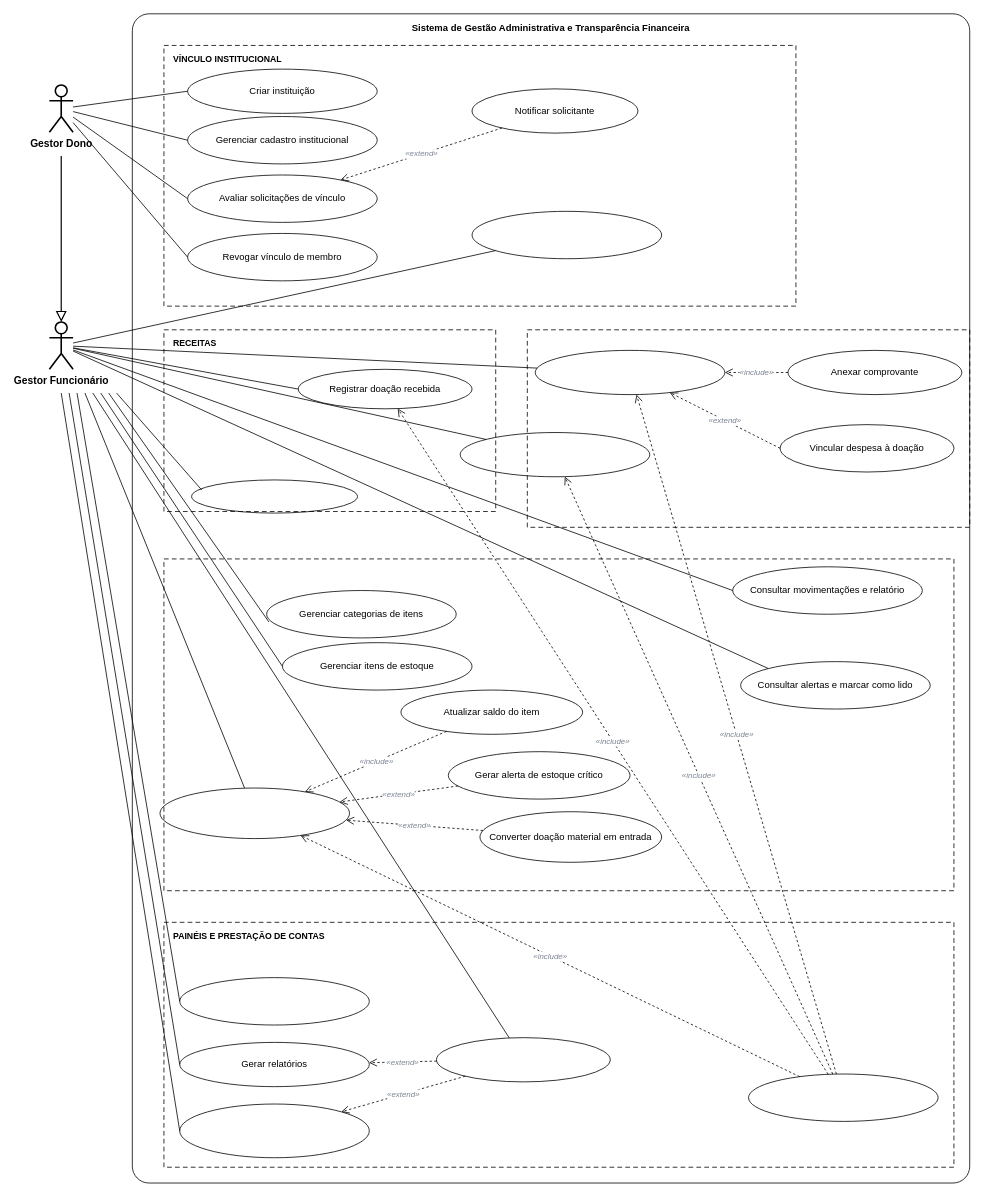
The diagram is 984 pixels wide and 1197 high, and some of its shapes have lost their labels. Each missing label, with the box of its shape:
DESPESAS E COMPROVANTES: (527, 329, 970, 527)
ESTOQUE E BENS PATRIMONIAIS: (163, 558, 954, 891)
Exportar (CSV / PDF): (436, 1037, 610, 1082)
Gerar demonstrativo de prestação de contas: (179, 1103, 369, 1158)
Gerenciar despesas: (459, 432, 650, 477)
Gerenciar doações recebidas: (191, 479, 357, 513)
Registrar despesa: (534, 350, 725, 395)
Registrar movimentação (entrada / saída): (159, 787, 350, 839)
Registrar trilha de auditoria: (748, 1073, 938, 1121)
Solicitar acesso a uma instituição: (471, 211, 662, 259)
Visualizar painel administrativo: (179, 977, 369, 1025)
